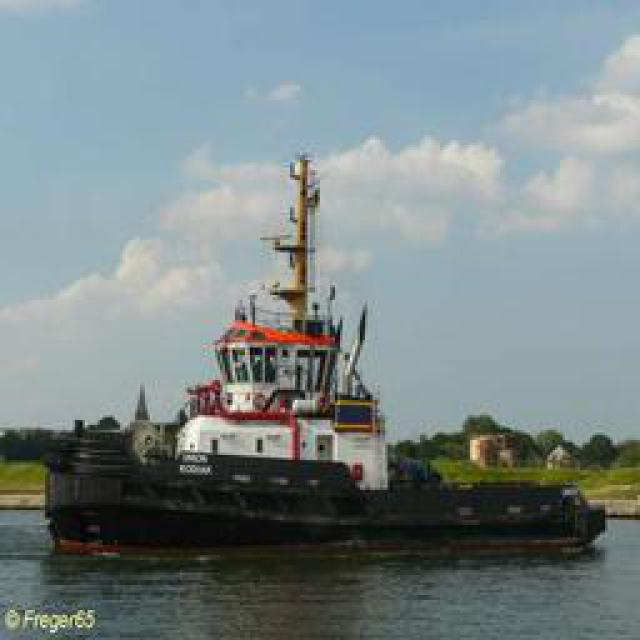Ship: (63, 146, 398, 541)
